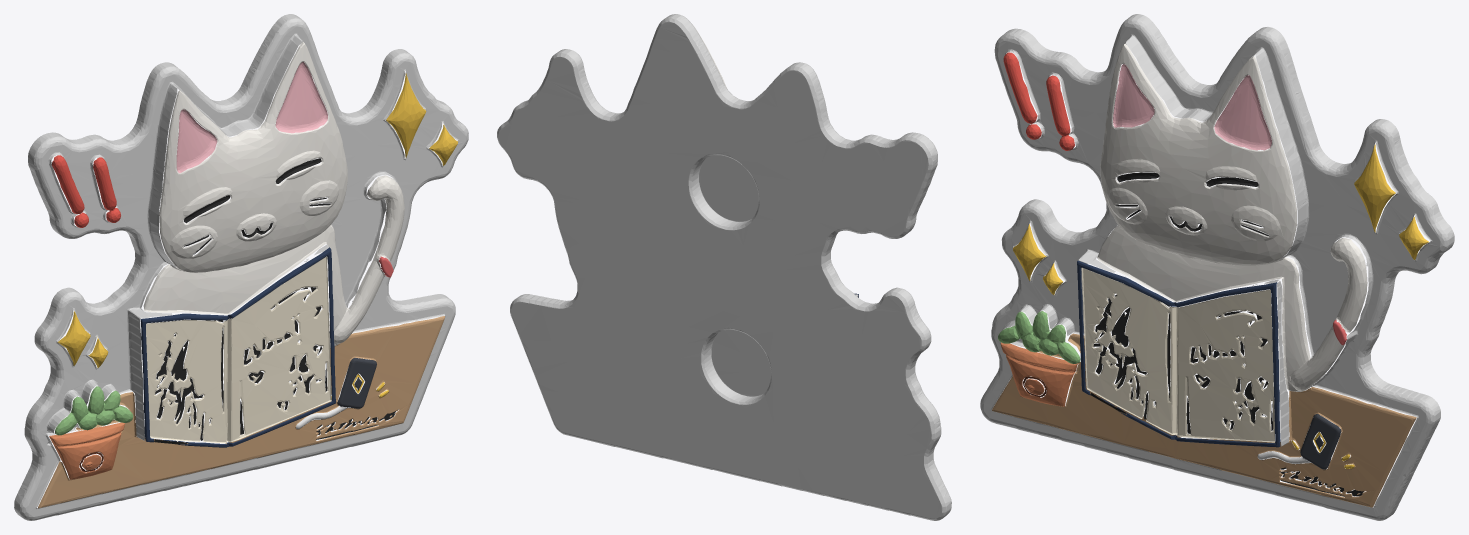
The model's file is cat-relief.glb.
3 renders of one model, left to right at view 1: azimuth 30°, elevation 25°; view 2: azimuth 150°, elevation 25°; view 3: azimuth 330°, elevation 25°, orthographic. The views are drawn at different scales.
Visible parts, largest first — view 1: 15_ffffff, 12_f3f0ea, 13_f4ebd6, 06_c9a27a, 11_f2b9c2, cat-relief, 02_2c3b57, 14_f5c84b, 07_d8875e, 09_e2574c, 05_8fbf7f, 03_3c4048; view 2: 15_ffffff; view 3: 15_ffffff, 12_f3f0ea, 13_f4ebd6, 06_c9a27a, 11_f2b9c2, cat-relief, 02_2c3b57, 14_f5c84b, 07_d8875e, 09_e2574c, 05_8fbf7f, 03_3c4048.
Boxes of the visible parts, bbox=[...] form: 15_ffffff: bbox=[14, 14, 468, 520]; 12_f3f0ea: bbox=[143, 42, 404, 347]; 13_f4ebd6: bbox=[146, 256, 331, 443]; 06_c9a27a: bbox=[38, 316, 444, 508]; 11_f2b9c2: bbox=[176, 62, 327, 173]; cat-relief: bbox=[154, 158, 395, 444]; 02_2c3b57: bbox=[140, 247, 335, 447]; 14_f5c84b: bbox=[57, 73, 457, 399]; 07_d8875e: bbox=[49, 422, 124, 479]; 09_e2574c: bbox=[51, 155, 120, 227]; 05_8fbf7f: bbox=[55, 386, 133, 435]; 03_3c4048: bbox=[337, 357, 376, 408]; 15_ffffff: bbox=[497, 14, 951, 520]; 15_ffffff: bbox=[980, 14, 1454, 520]; 12_f3f0ea: bbox=[1097, 39, 1367, 391]; 13_f4ebd6: bbox=[1082, 268, 1274, 442]; 06_c9a27a: bbox=[992, 333, 1416, 507]; 11_f2b9c2: bbox=[1113, 64, 1271, 150]; cat-relief: bbox=[1090, 172, 1363, 496]; 02_2c3b57: bbox=[1077, 260, 1280, 447]; 14_f5c84b: bbox=[1013, 144, 1428, 469]; 07_d8875e: bbox=[1000, 342, 1078, 406]; 09_e2574c: bbox=[1003, 52, 1074, 150]; 05_8fbf7f: bbox=[998, 311, 1080, 363]; 03_3c4048: bbox=[1300, 414, 1341, 469].
Size of the model in its own units: 0.069 by 0.065 by 0.00762.
